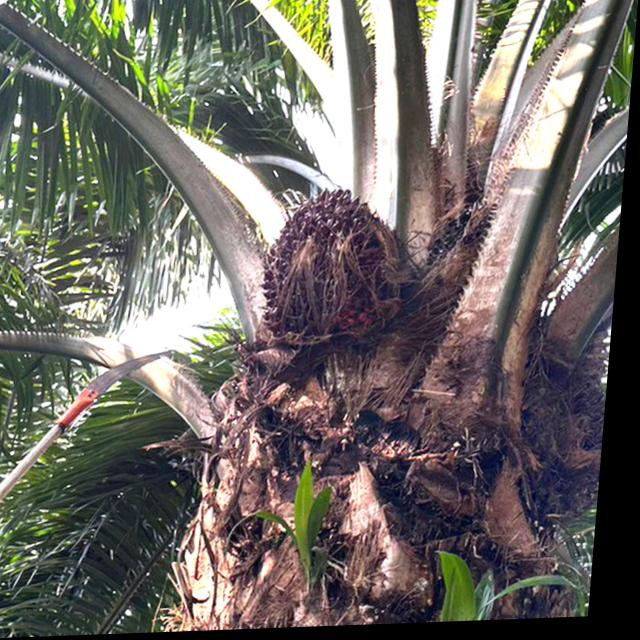ripe: (259, 171, 412, 361)
